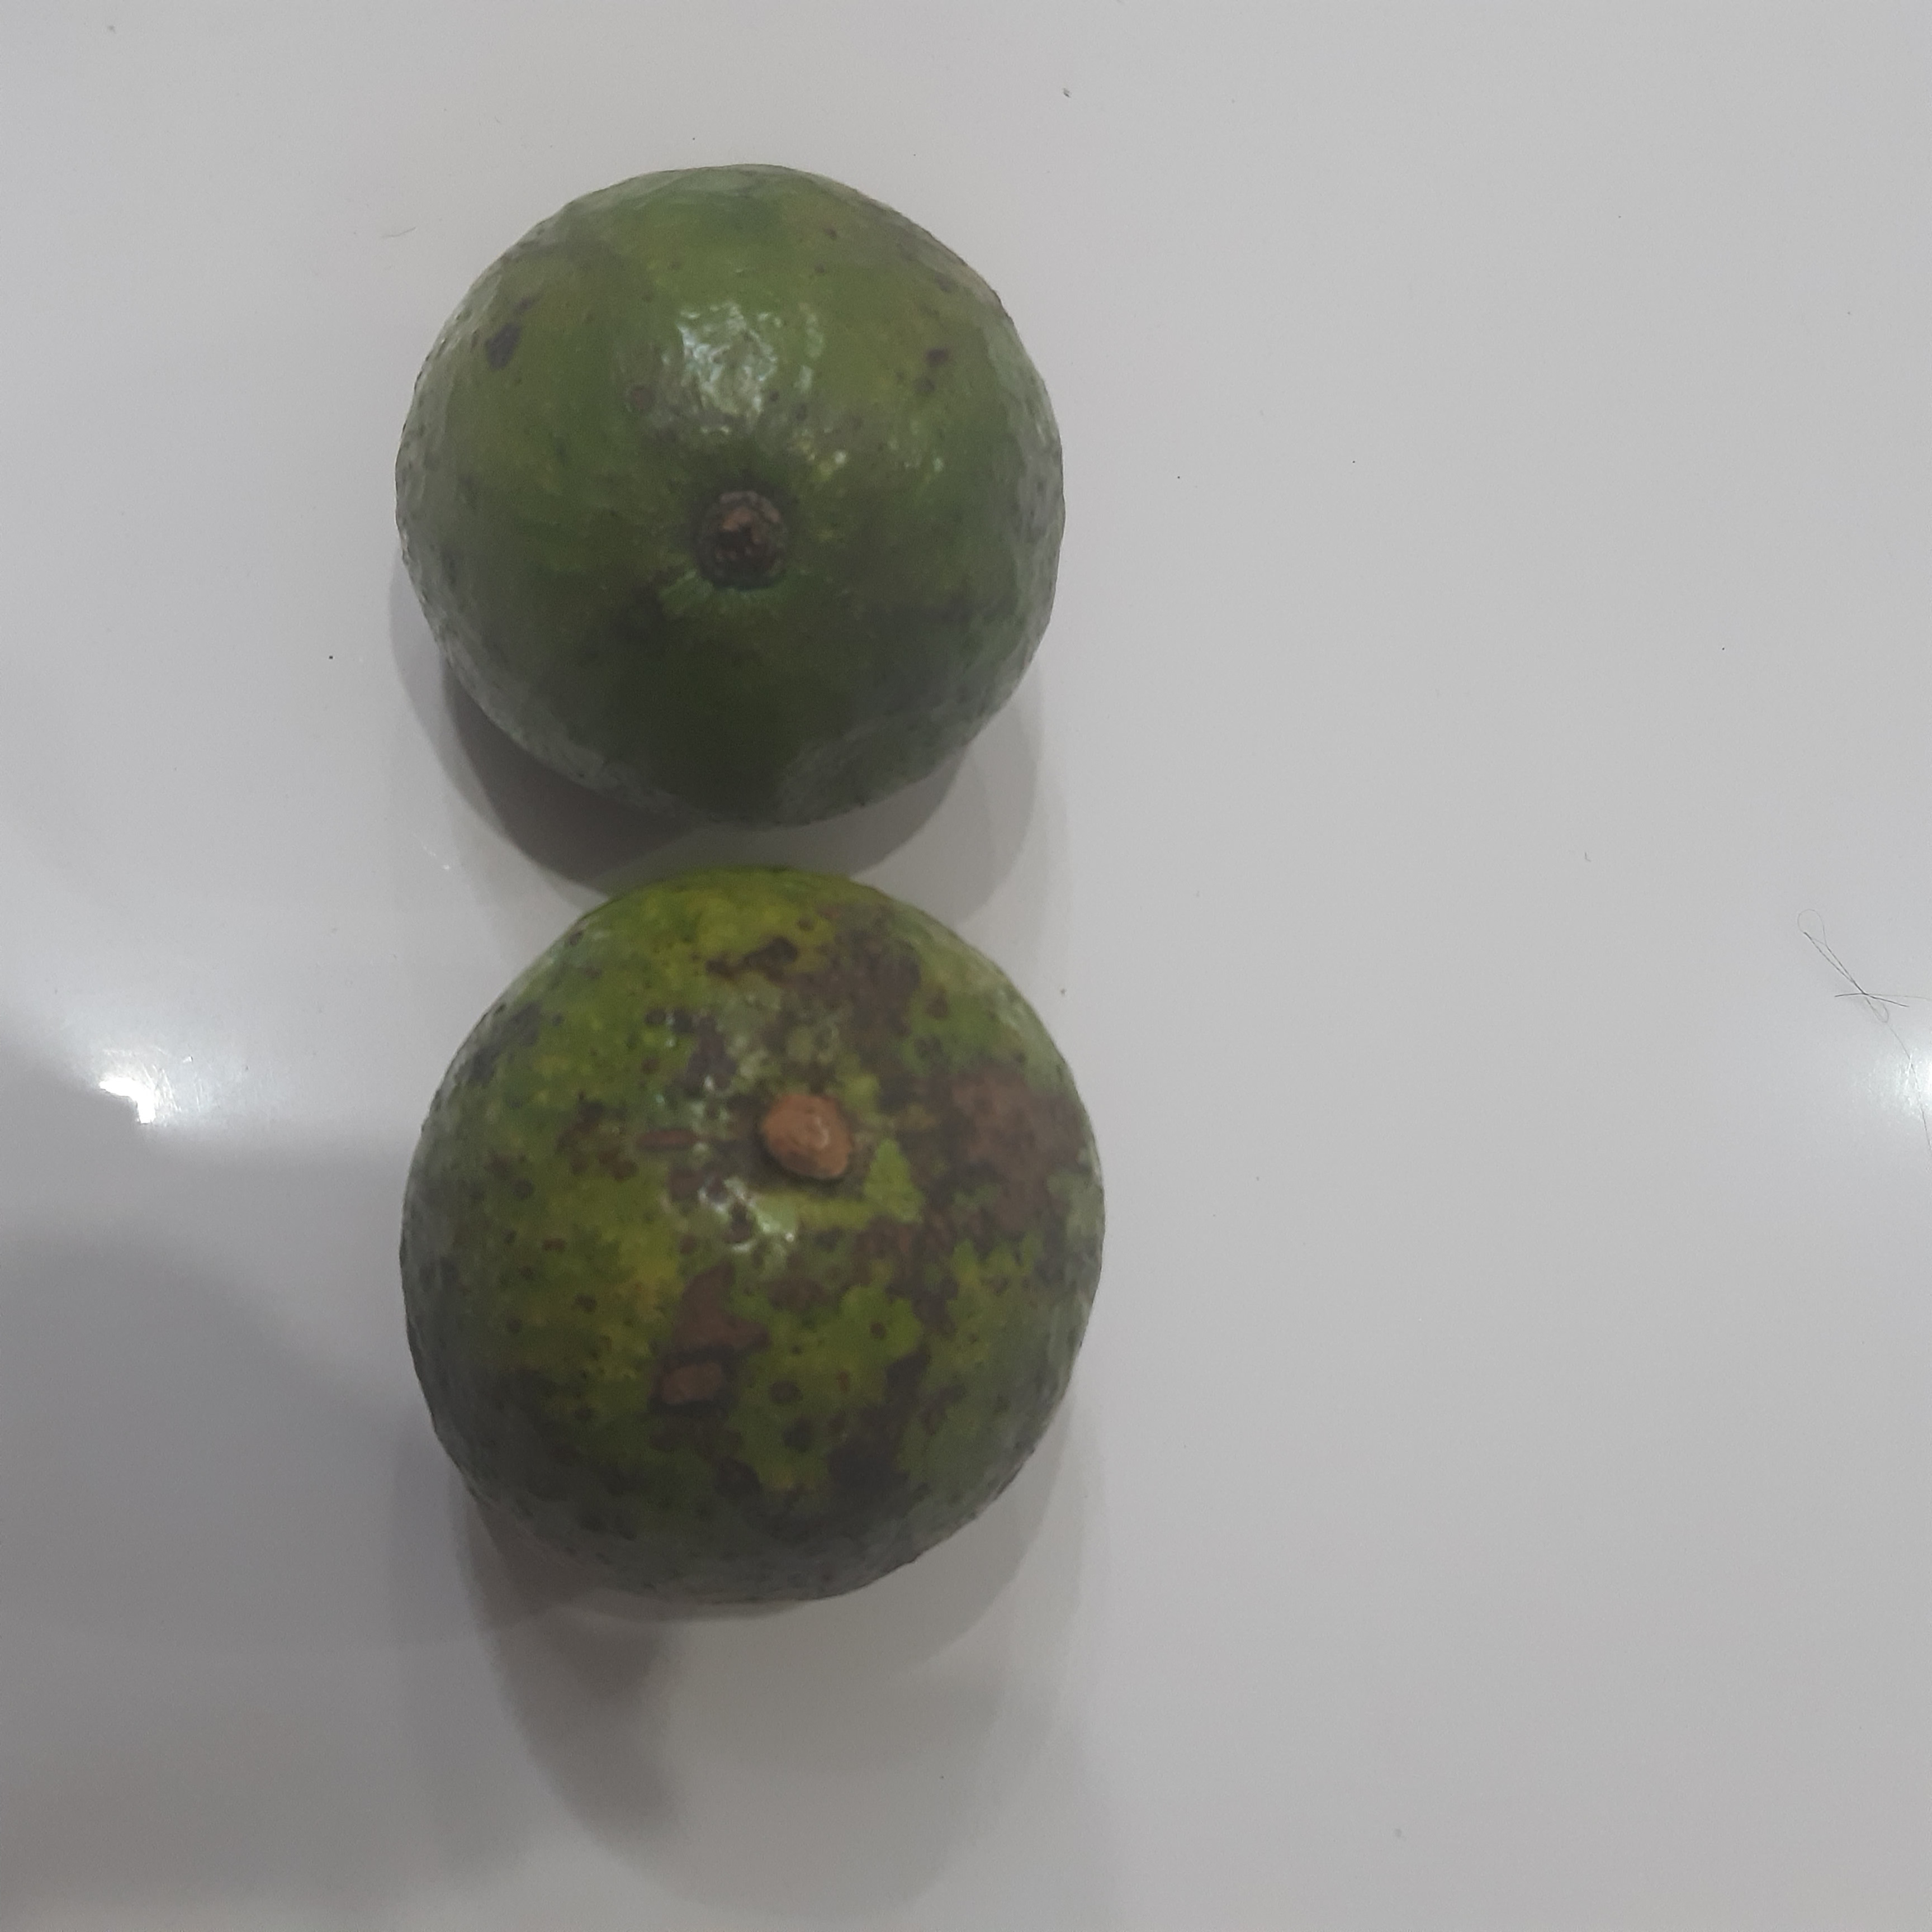Bo: (391, 865, 1108, 1614), (389, 165, 1065, 835)
